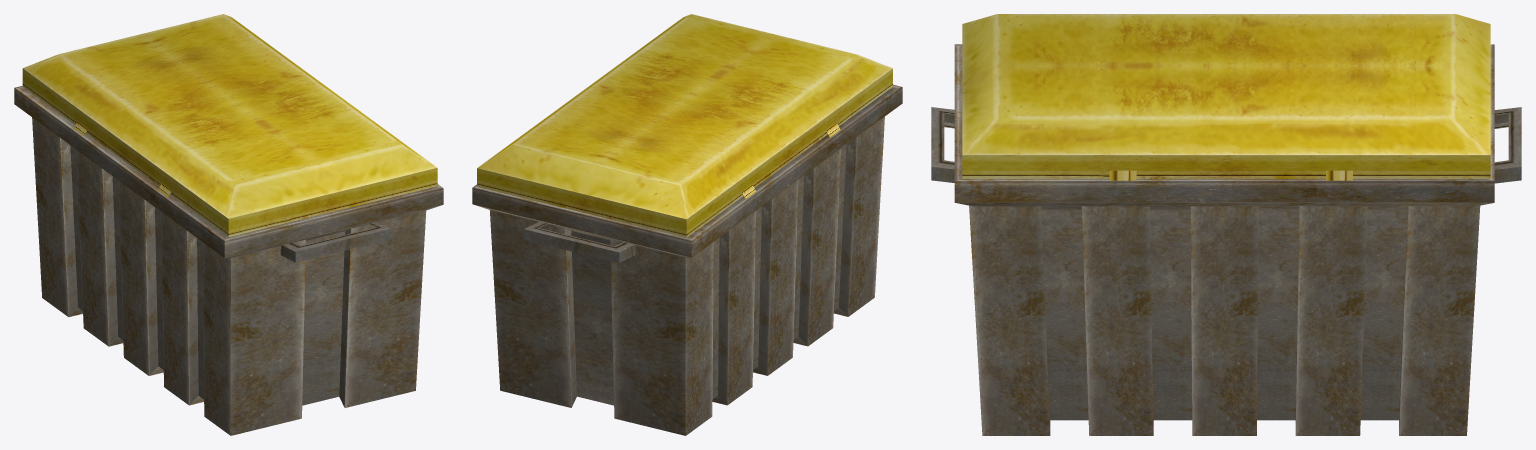
3 views of the same model, side by side, from view 1: azimuth 30°, elevation 25°; view 2: azimuth 150°, elevation 25°; view 3: azimuth 270°, elevation 25° (orthographic). The views are drawn at different scales.
Visible parts, largest first — view 1: Box_02, Box_02_Top; view 2: Box_02, Box_02_Top; view 3: Box_02, Box_02_Top.
Boxes of the visible parts, x1=… form: Box_02: x1=14, y1=86, x2=443, y2=435; Box_02_Top: x1=22, y1=14, x2=437, y2=237; Box_02: x1=472, y1=84, x2=902, y2=435; Box_02_Top: x1=477, y1=14, x2=892, y2=237; Box_02: x1=931, y1=44, x2=1521, y2=435; Box_02_Top: x1=962, y1=14, x2=1490, y2=178.
Size of the model in its own units: 70.21 by 74.75 by 128.
